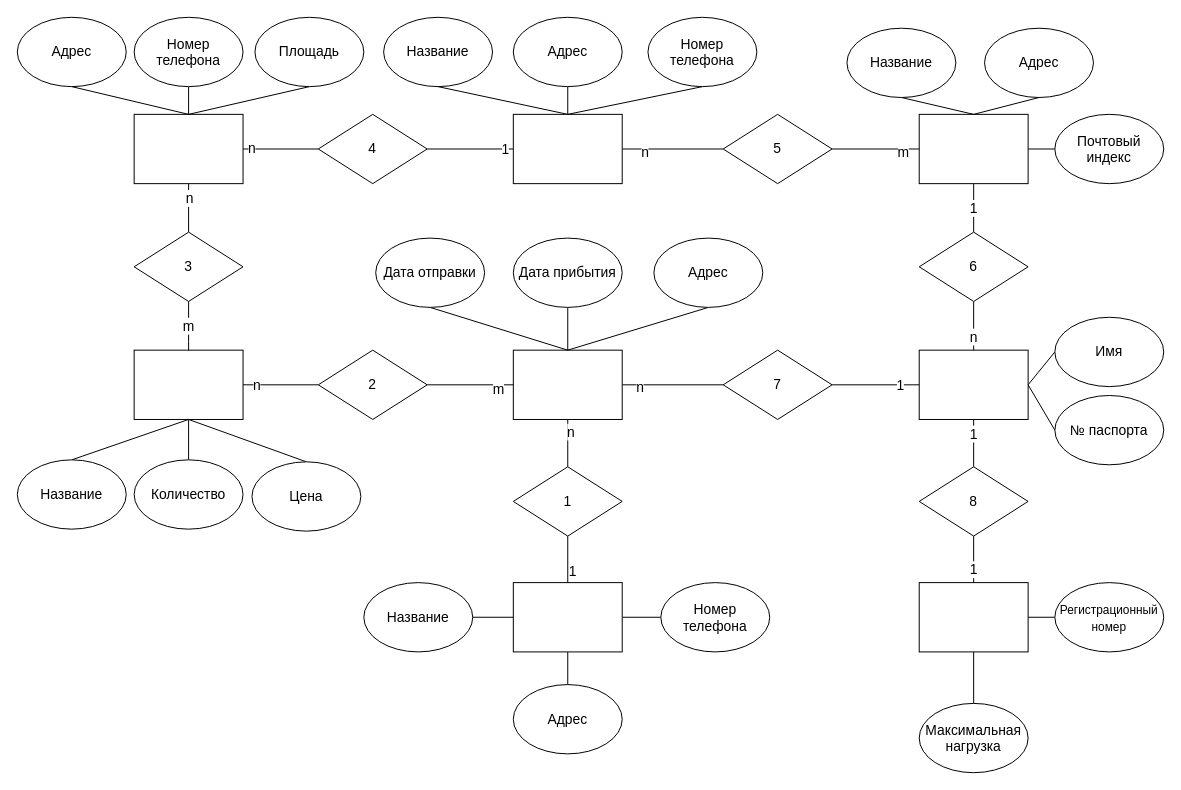
The diagram is 1181 pixels wide and 790 high, and some of its shapes have lost their labels. Each missing label, with the centre of its shape:
"Водитель" goes at (x=973, y=384).
"Грузовик" goes at (x=973, y=617).
"Заказчик" goes at (x=567, y=617).
"Перевозчик" goes at (x=973, y=148).
"Поставщик" goes at (x=567, y=148).
"Рейс" goes at (x=567, y=384).
"Склад" goes at (x=188, y=148).
"Товар" goes at (x=188, y=384).
